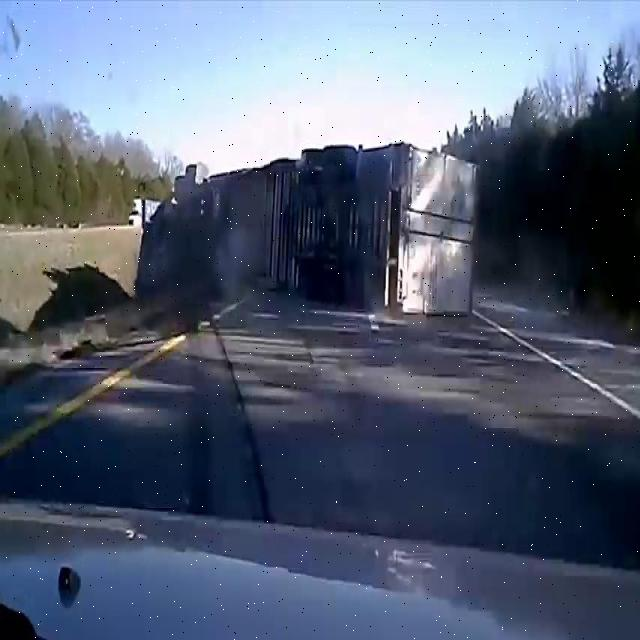severe: (148, 134, 482, 326)
